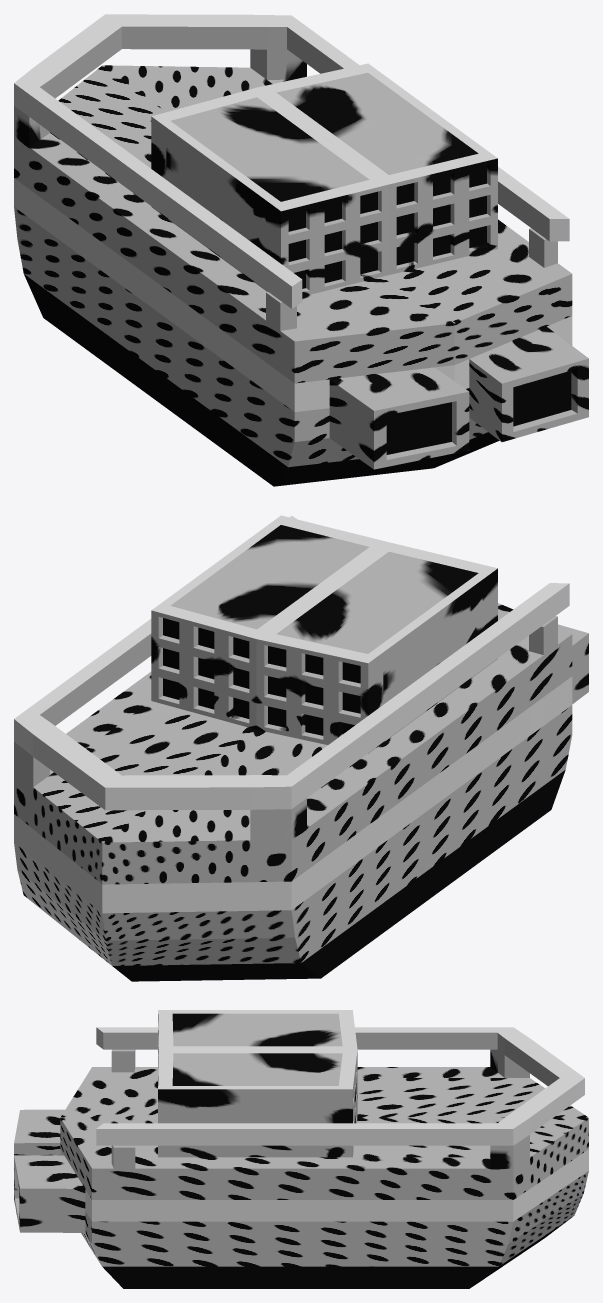
Rendered from SILVER_Destroyer.fbx.
The picture shows the model from 3 angles, top to bottom: view 1: azimuth 30°, elevation 25°; view 2: azimuth 150°, elevation 25°; view 3: azimuth 270°, elevation 25°; orthographic projection. The views are drawn at different scales.
Visible parts, largest first — view 1: Cube; view 2: Cube; view 3: Cube.
Boxes of the visible parts, x1,y1,x2,y2 form: Cube: [14, 14, 588, 486]; Cube: [14, 515, 588, 981]; Cube: [14, 1010, 588, 1288].
Size of the model in its own units: 362 by 313 by 866.
